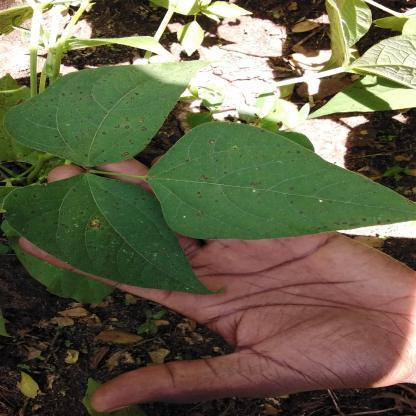Beans_Angular_LeafSpot: (147, 120, 397, 242), (9, 61, 205, 164), (7, 178, 175, 284)
